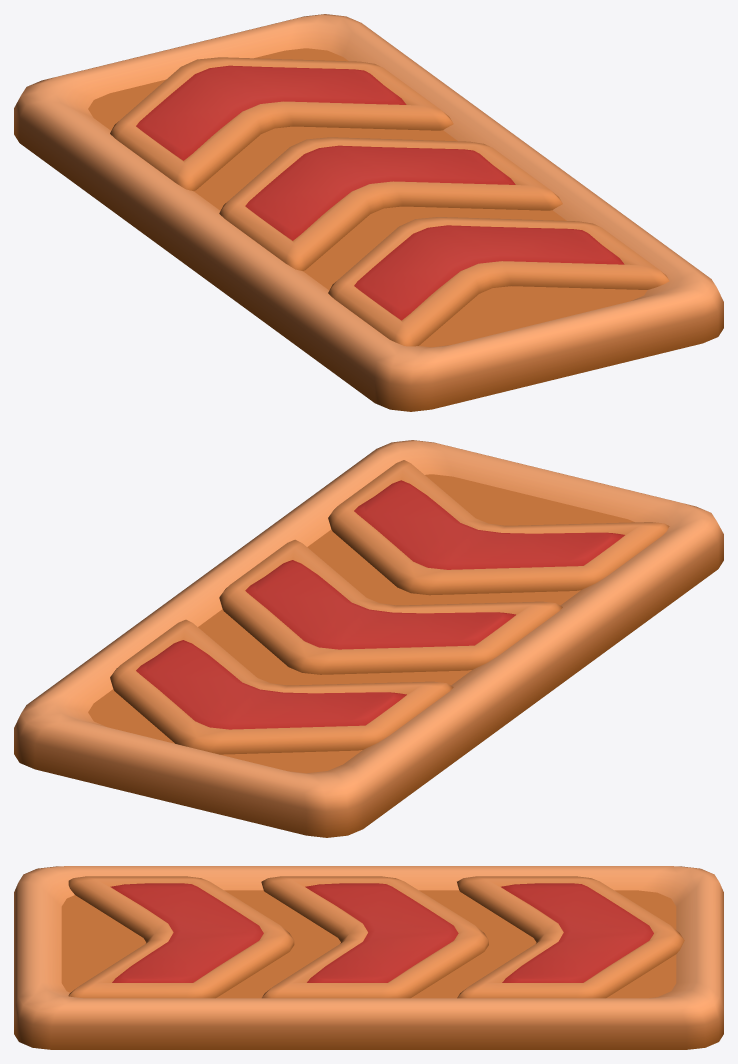
The model's file is Cookie_10.glb.
The picture shows the model from 3 angles, top to bottom: view 1: azimuth 30°, elevation 25°; view 2: azimuth 150°, elevation 25°; view 3: azimuth 270°, elevation 25°; orthographic projection. The views are drawn at different scales.
Parts seen in each view (by area): view 1: Cookie_10; view 2: Cookie_10; view 3: Cookie_10.
Boxes of the visible parts, bbox=[...] form: Cookie_10: bbox=[14, 14, 723, 411]; Cookie_10: bbox=[14, 440, 723, 837]; Cookie_10: bbox=[14, 866, 723, 1049].
Size of the model in its own units: 4 by 0.5543 by 8.
Materials: 1 (1 with a texture image).
